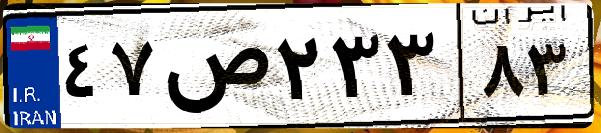2: (270, 28, 330, 110)
3: (385, 28, 445, 110), (330, 28, 385, 110), (525, 38, 570, 115)
4: (57, 26, 110, 100)
7: (110, 28, 158, 98)
8: (475, 38, 525, 113)
ص: (158, 20, 270, 120)
